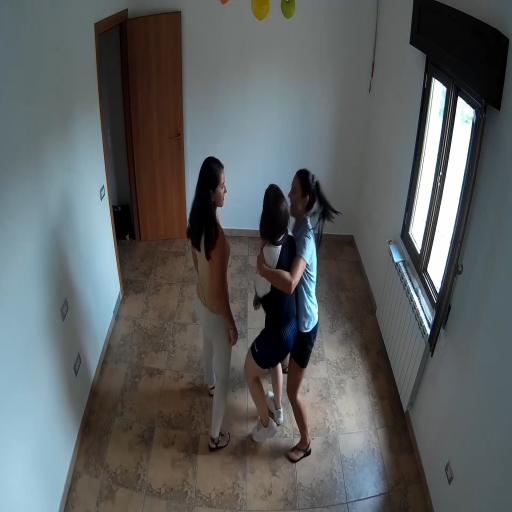nao-violencia: (238, 137, 350, 471)
